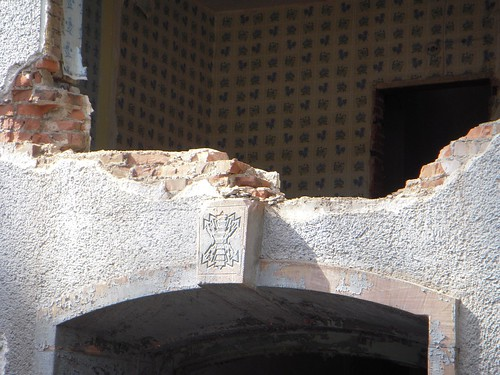building: (1, 1, 497, 371)
